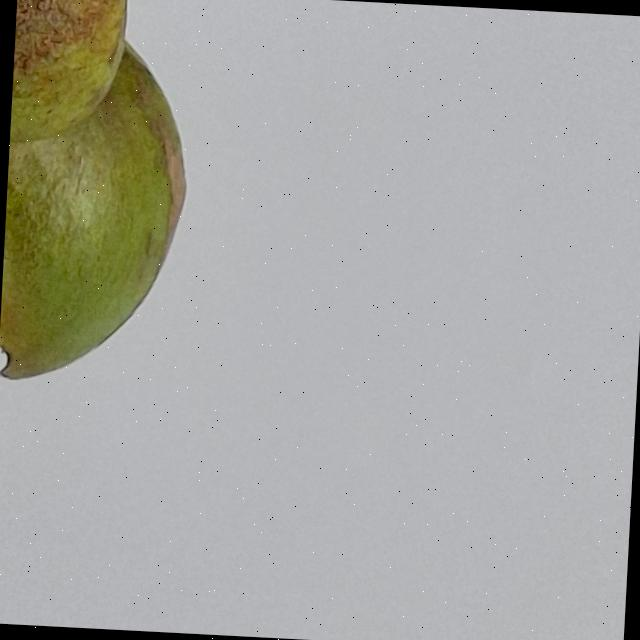mangosteen: (0, 0, 436, 640)
